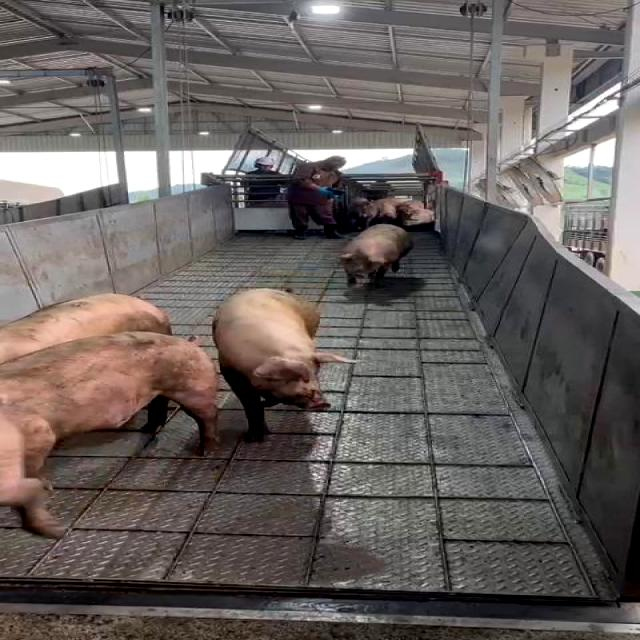pig: (0, 332, 218, 478), (213, 289, 355, 441), (0, 294, 171, 362), (341, 225, 412, 283)
